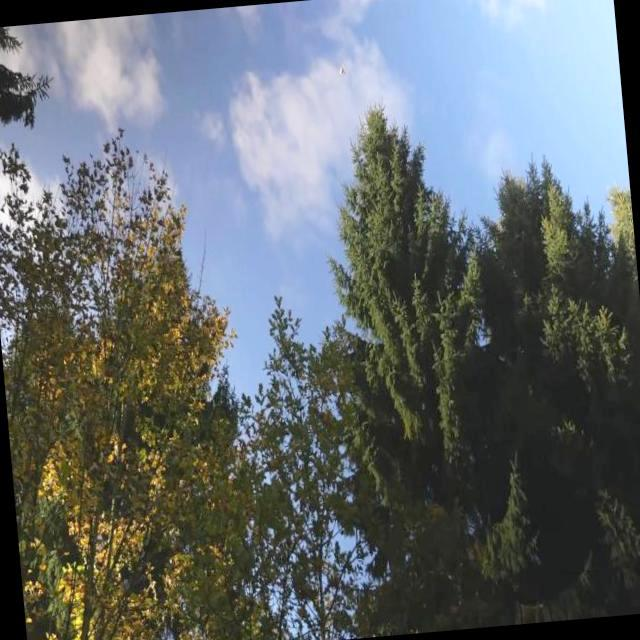drone: (334, 58, 349, 83)
